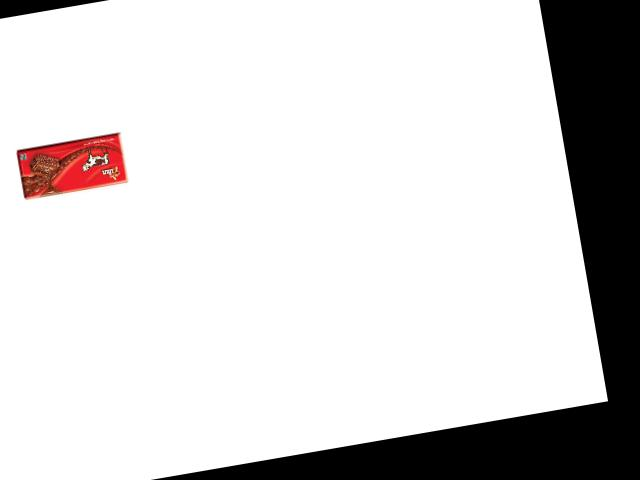chocolate: (14, 142, 120, 211)
